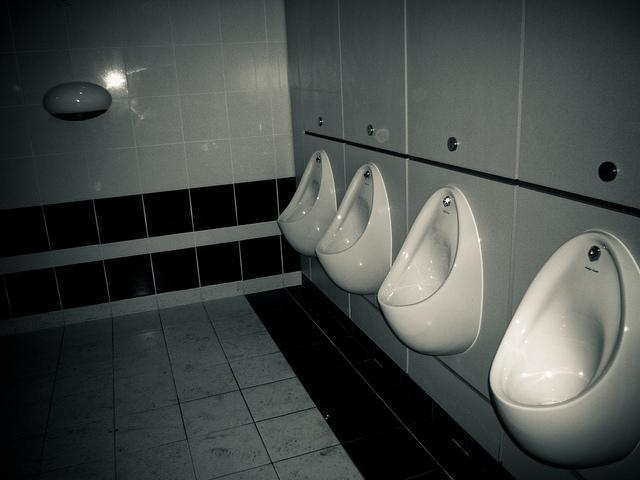Sanitario: (486, 230, 639, 476), (377, 184, 483, 355), (314, 162, 399, 295), (275, 151, 339, 256)
